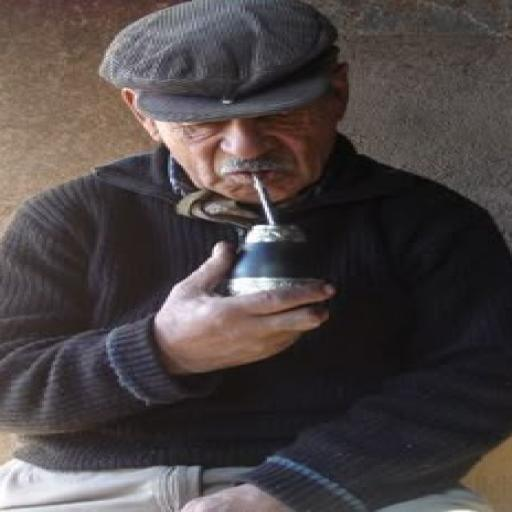mate: (228, 177, 324, 295)
